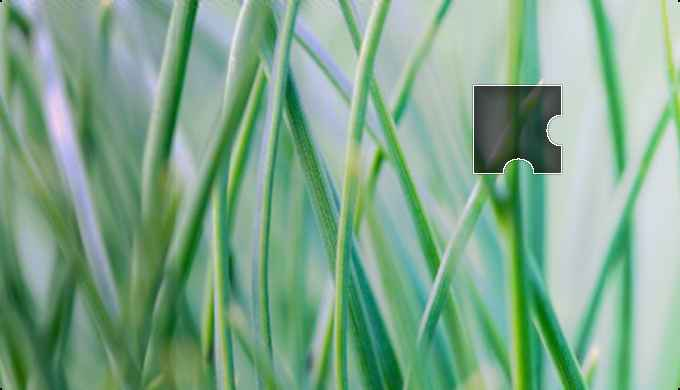gap: (472, 84, 563, 172)
